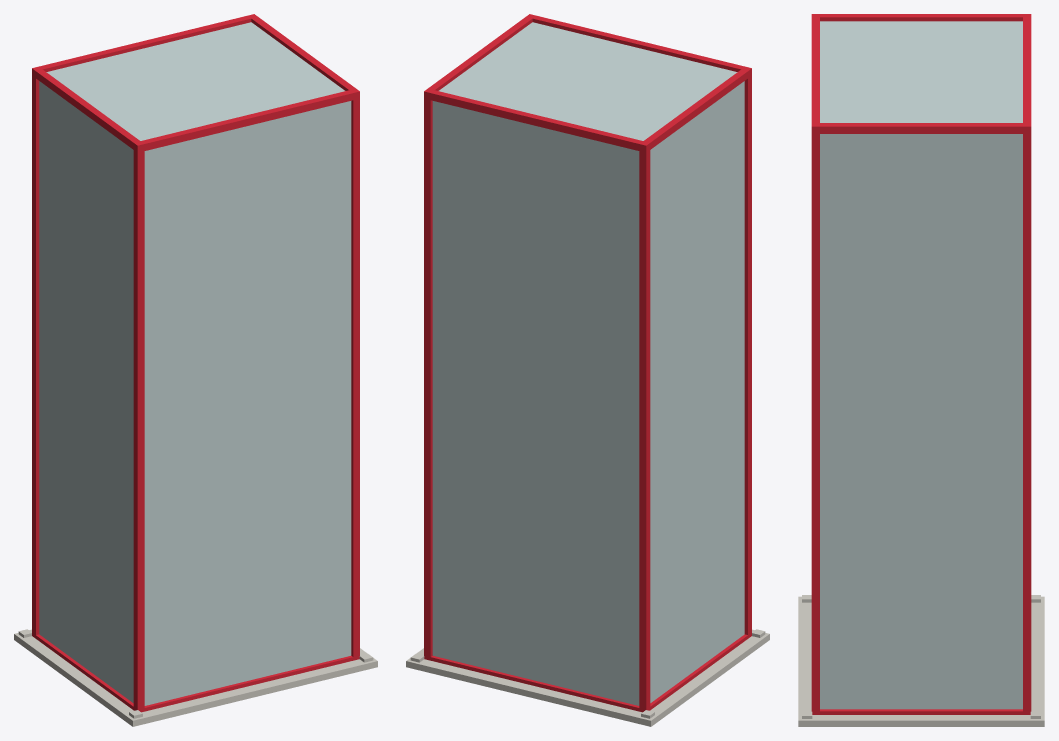
Rendered from ginjit-kran-udirdlagatai-865661.glb.
The picture shows the model from 3 angles, left to right: view 1: azimuth 30°, elevation 25°; view 2: azimuth 150°, elevation 25°; view 3: azimuth 270°, elevation 25°; orthographic projection. The views are drawn at different scales.
Bounding box in the file's own units: 0.25 × 0.5595 × 0.21.
